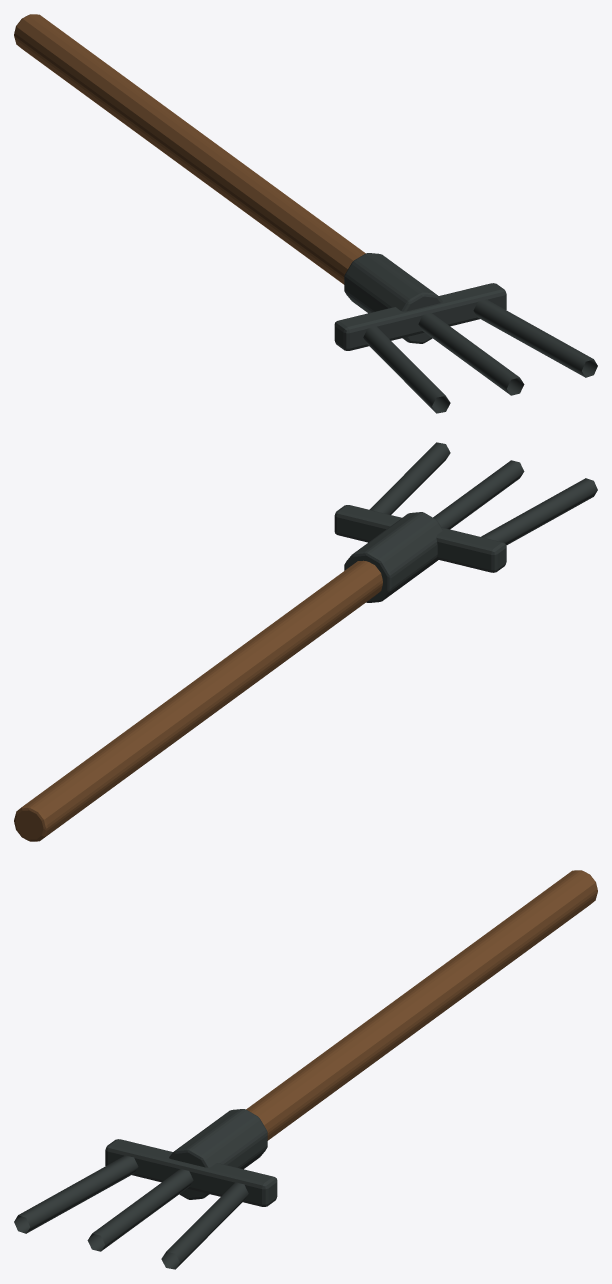
Rendered from levy_pitchfork_LOD1.glb.
The picture shows the model from 3 angles, top to bottom: view 1: azimuth 30°, elevation 25°; view 2: azimuth 150°, elevation 25°; view 3: azimuth 330°, elevation 25°; orthographic projection.
Visible parts, largest first — view 1: LOD1_Haft, LOD1_Shoulder, LOD1_Socket, LOD1_Tine.002, LOD1_Tine.001, LOD1_Tine; view 2: LOD1_Haft, LOD1_Socket, LOD1_Shoulder, LOD1_Tine, LOD1_Tine.001, LOD1_Tine.002; view 3: LOD1_Haft, LOD1_Shoulder, LOD1_Socket, LOD1_Tine, LOD1_Tine.001, LOD1_Tine.002.
Part boxes in pixels (left/top/right/bottom): LOD1_Haft: left=14, top=14, right=365, bottom=284; LOD1_Shoulder: left=334, top=283, right=506, bottom=350; LOD1_Socket: left=344, top=253, right=442, bottom=343; LOD1_Tine.002: left=473, top=299, right=597, bottom=377; LOD1_Tine.001: left=418, top=313, right=524, bottom=395; LOD1_Tine: left=363, top=326, right=450, bottom=413; LOD1_Haft: left=14, top=560, right=382, bottom=841; LOD1_Socket: left=344, top=512, right=442, bottom=602; LOD1_Shoulder: left=334, top=505, right=506, bottom=572; LOD1_Tine: left=481, top=478, right=597, bottom=545; LOD1_Tine.001: left=433, top=460, right=524, bottom=529; LOD1_Tine.002: left=369, top=442, right=450, bottom=514; LOD1_Haft: left=246, top=870, right=597, bottom=1140; LOD1_Shoulder: left=105, top=1139, right=277, bottom=1206; LOD1_Socket: left=169, top=1109, right=267, bottom=1199; LOD1_Tine: left=14, top=1155, right=138, bottom=1233; LOD1_Tine.001: left=87, top=1169, right=193, bottom=1251; LOD1_Tine.002: left=161, top=1182, right=248, bottom=1269.
Bounding box in the file's own units: 0.4696 × 0.1371 × 2.38.
